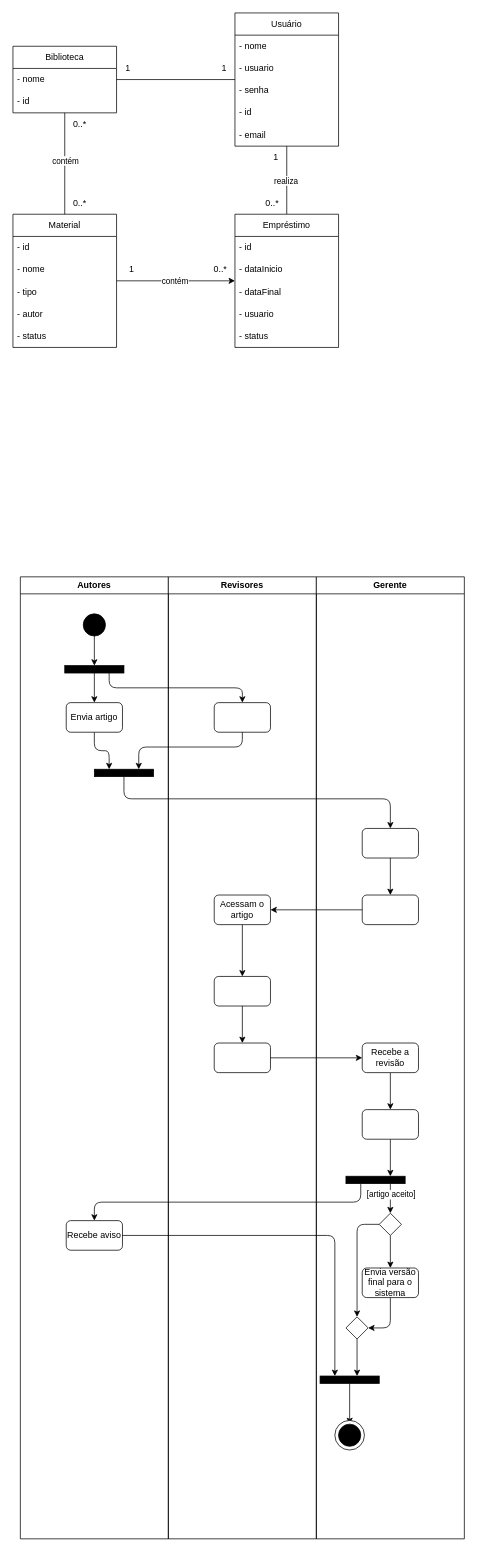
Some shapes in this 477 by 1552 pixel diagram are drawn without their labels. The centre of each missing label's shape, as x and y in pixels:
Distribui para os revisores: (x=389, y=909)
Envia para o sistema: (x=241, y=1057)
Fazem a revisão: (x=241, y=991)
Informa para os autores: (x=389, y=1124)
Recebe os artigos: (x=389, y=843)
Se cadastra no evento: (x=241, y=717)
